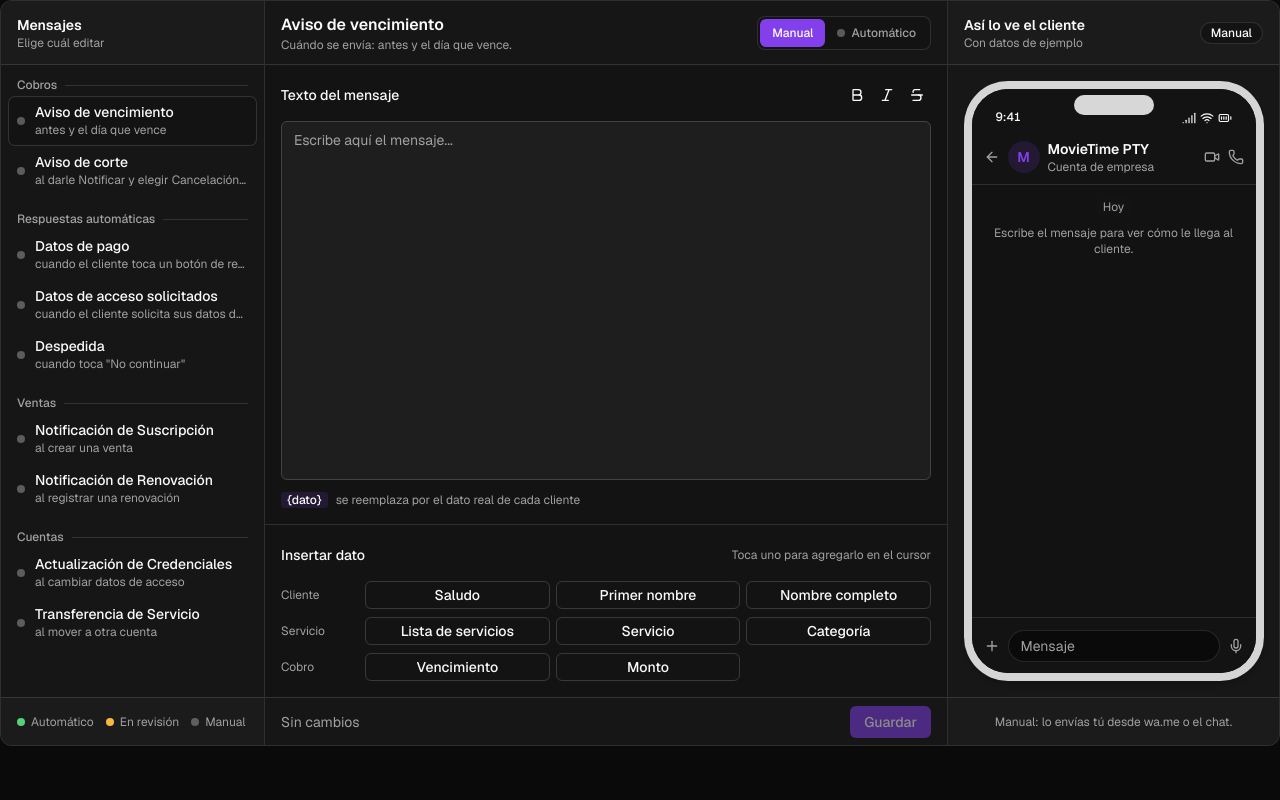
Test: TemplateEditor › edits requested access data in its own section without changing the subscription text
Click the button that starts with "Datos de acceso solicitados" at (132, 305), box [9,281,256,329]
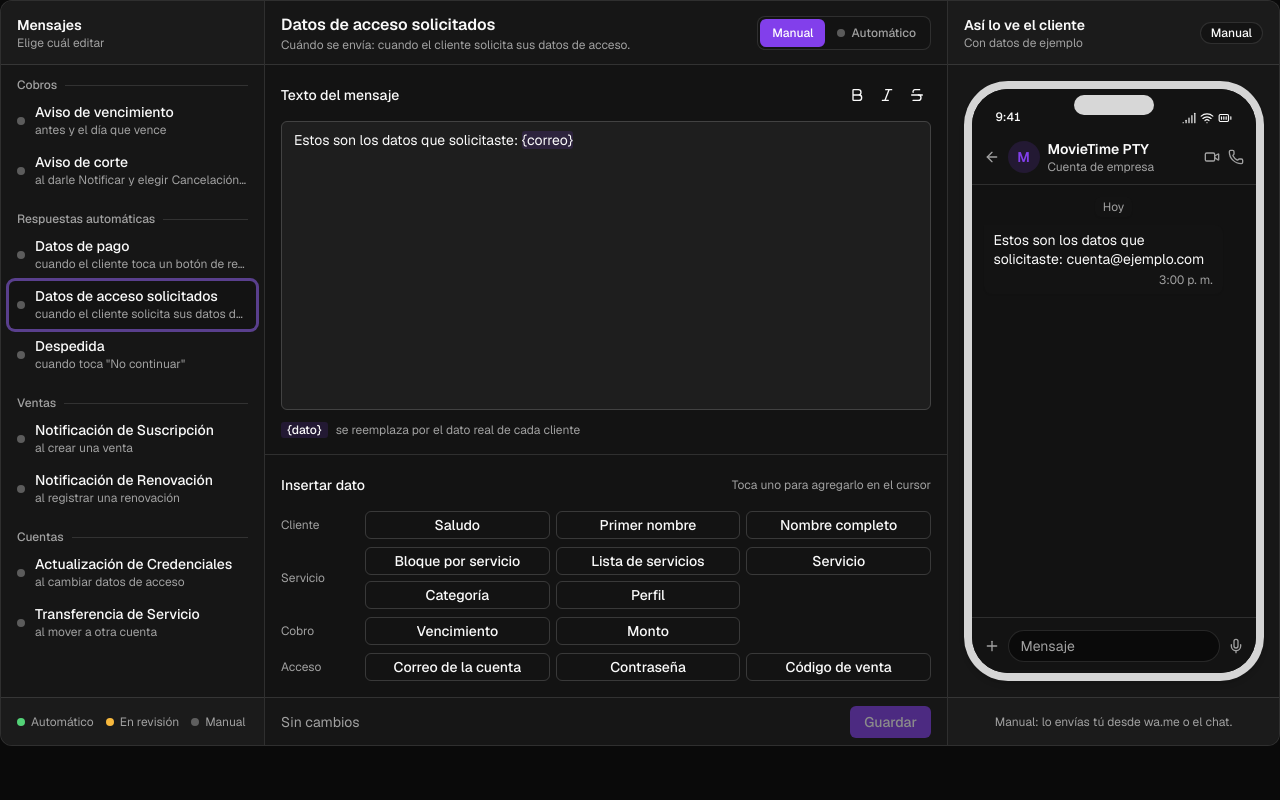
Result: the text box holds "Estos son los datos que solicitaste: {correo}" at [281,121,931,410]
Result: the button "Contraseña" is shown at [556,653,740,681]
Click the button "Notificación de Suscripción al crear una venta" at (132, 439), box [9,415,256,463]
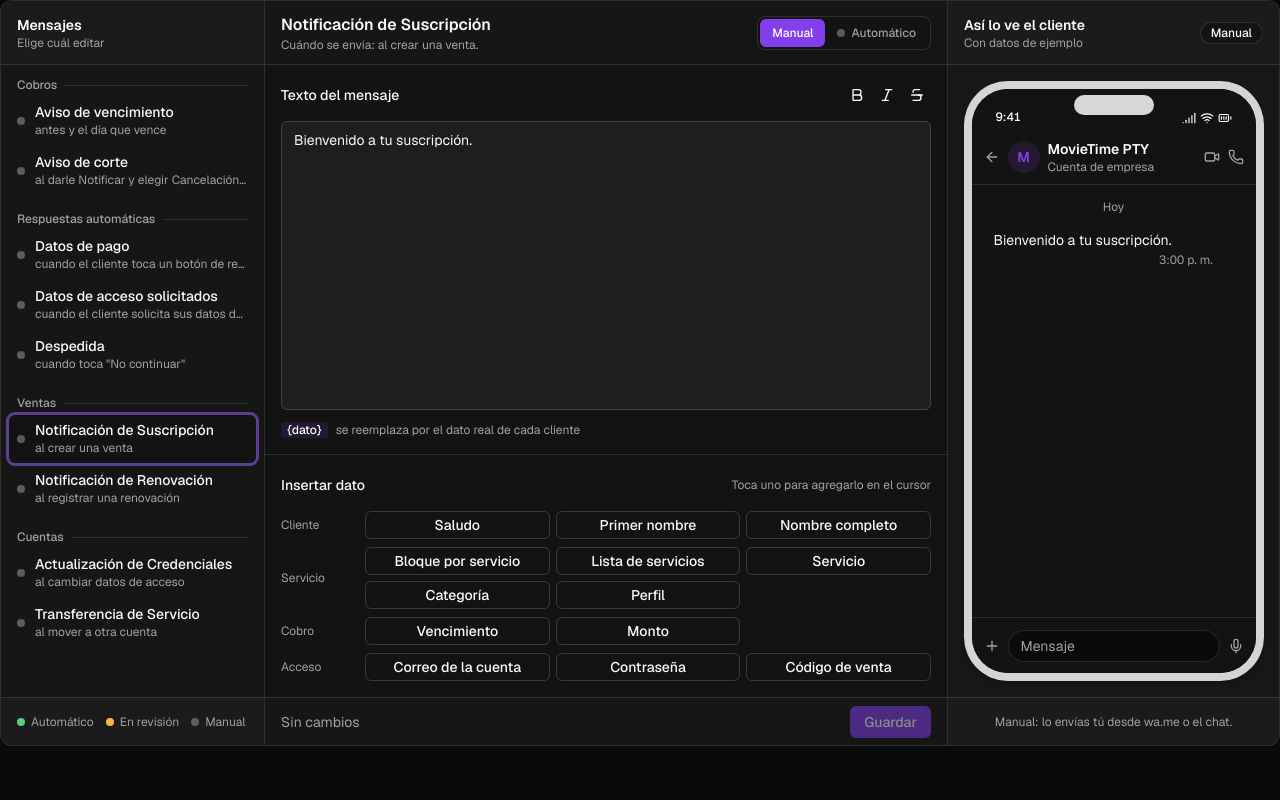
Result: the text box holds "Bienvenido a tu suscripción." at [281,121,931,410]
